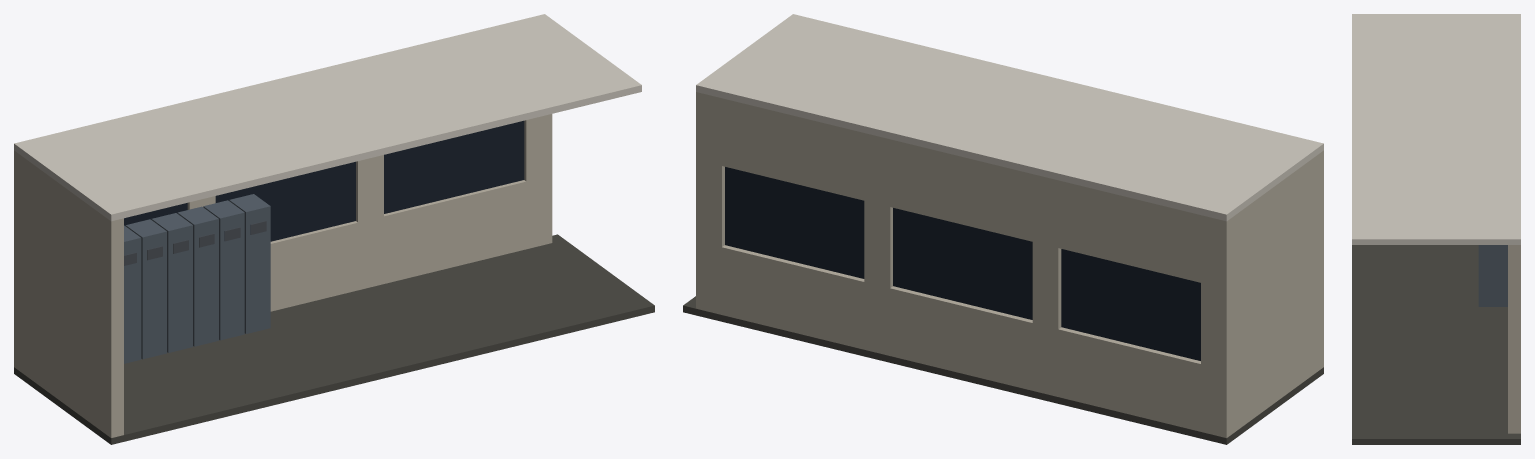
Rendered from corridor.glb.
The picture shows the model from 3 angles, left to right: view 1: azimuth 30°, elevation 25°; view 2: azimuth 150°, elevation 25°; view 3: azimuth 270°, elevation 25°; orthographic projection. The views are drawn at different scales.
Visible parts, largest first — view 1: CorridorShell, CorridorDetail; view 2: CorridorShell, CorridorDetail; view 3: CorridorShell, CorridorDetail.
Part boxes in pixels (box(x1,y1,x2,y2)): CorridorShell: box(14, 14, 654, 444); CorridorDetail: box(124, 120, 524, 363); CorridorShell: box(683, 14, 1323, 444); CorridorDetail: box(725, 167, 1200, 360); CorridorShell: box(1352, 14, 1520, 444); CorridorDetail: box(1478, 245, 1507, 306).
Bounding box in the file's own units: 8.4 × 3.4 × 2.6.
